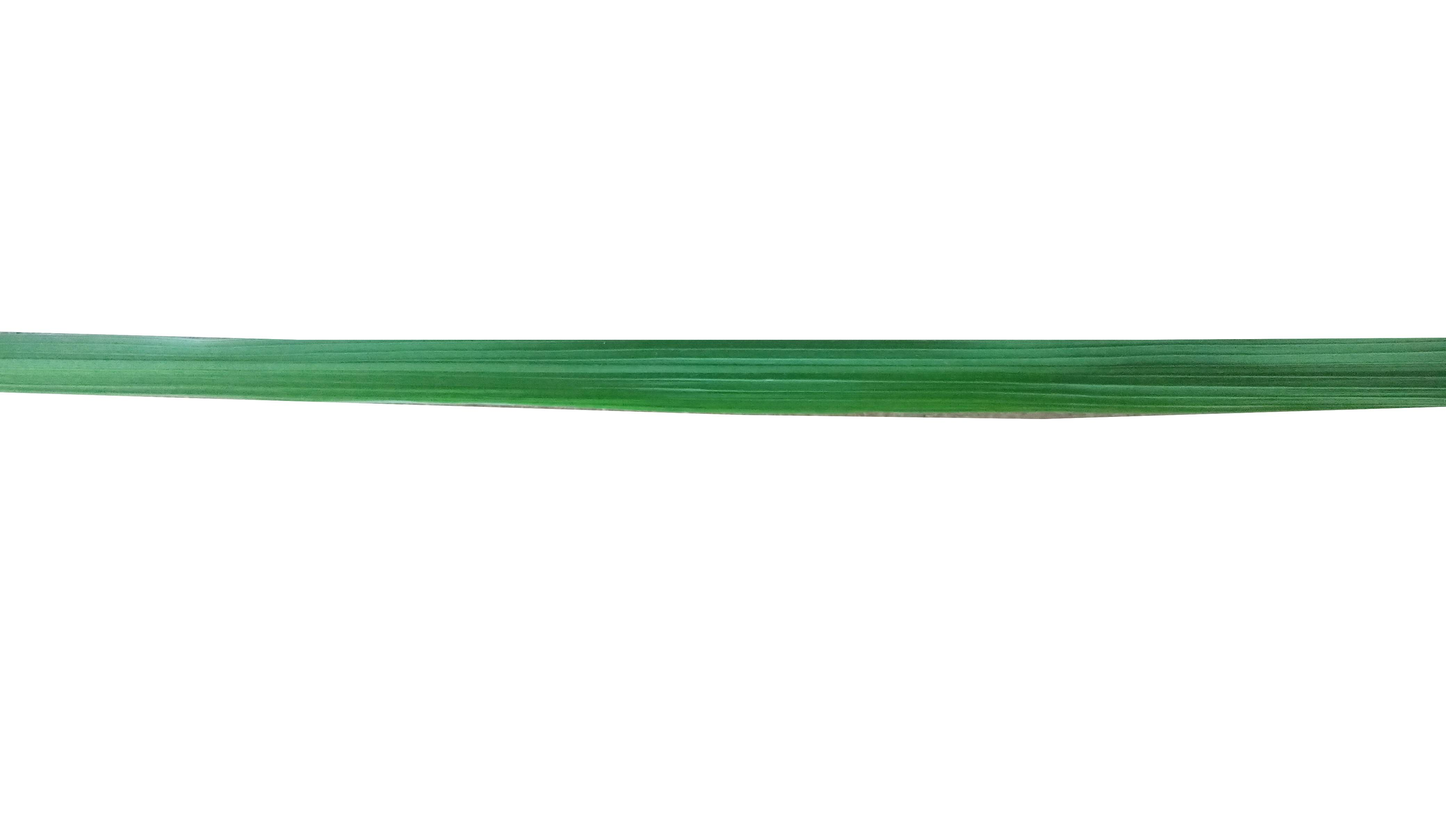Healthy: (2, 335, 1446, 420)
